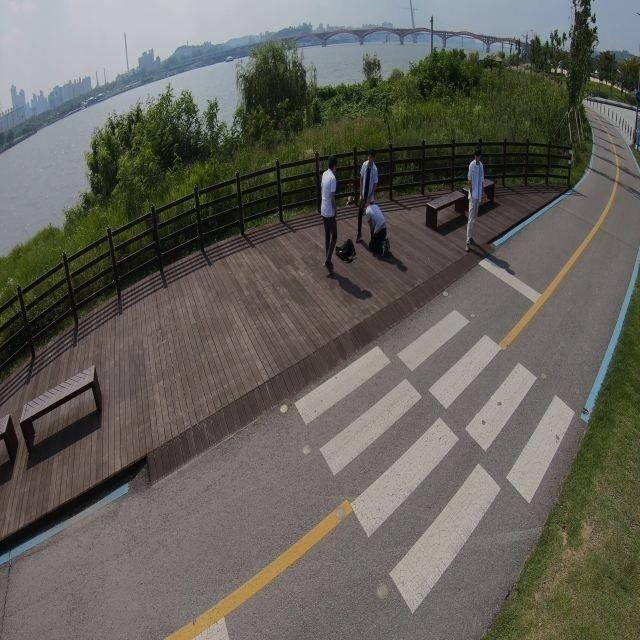fight: (355, 153, 387, 254)
non-fight: (319, 156, 343, 276), (462, 148, 483, 251)
